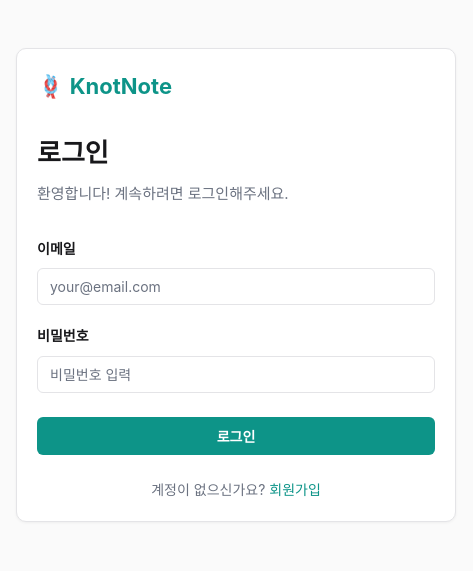
LoginPage › 서버 메시지가 없으면 기본 오류 문구를 표시한다
Type "user@test.local" into the field labelled "이메일".
click(236, 287); type("user@test.local")  # box [37,268,435,305]
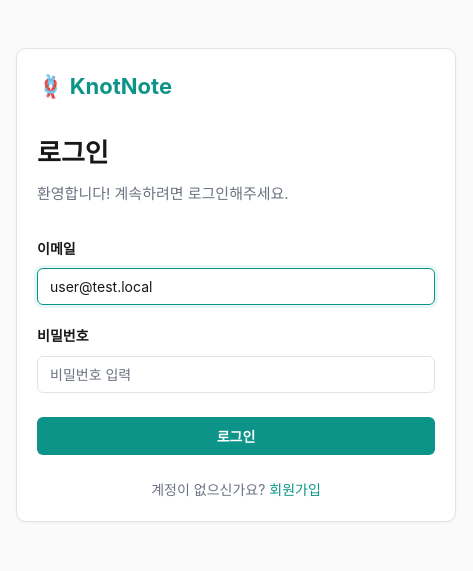
Type "pw1234!" into the password field labelled "비밀번호".
click(236, 374); type("pw1234!")  # box [37,356,435,393]
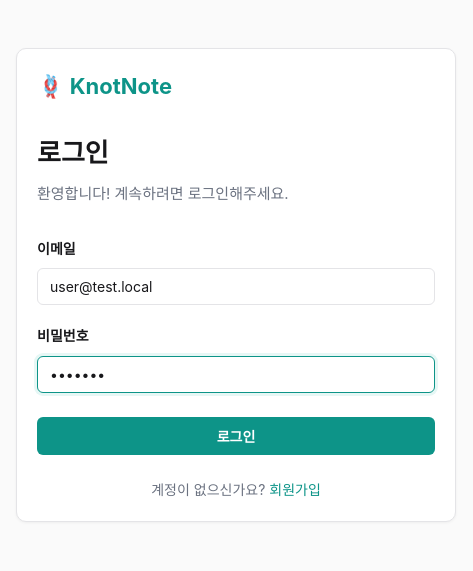
Click the button "로그인".
click(236, 436)  # box [37,417,435,455]
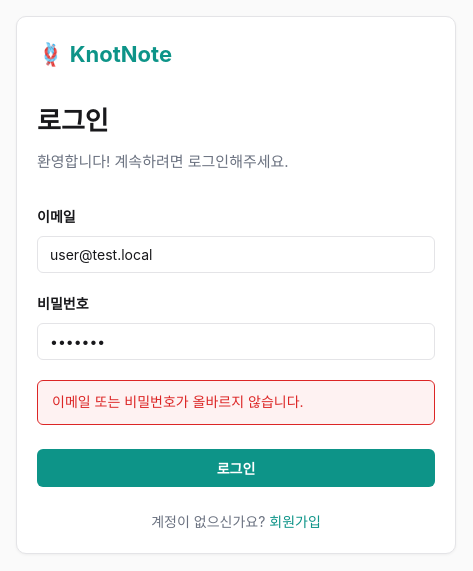
expect the text "이메일 또는 비밀번호가 올바르지 않습니다." is shown: met, box [37,380,435,425]
